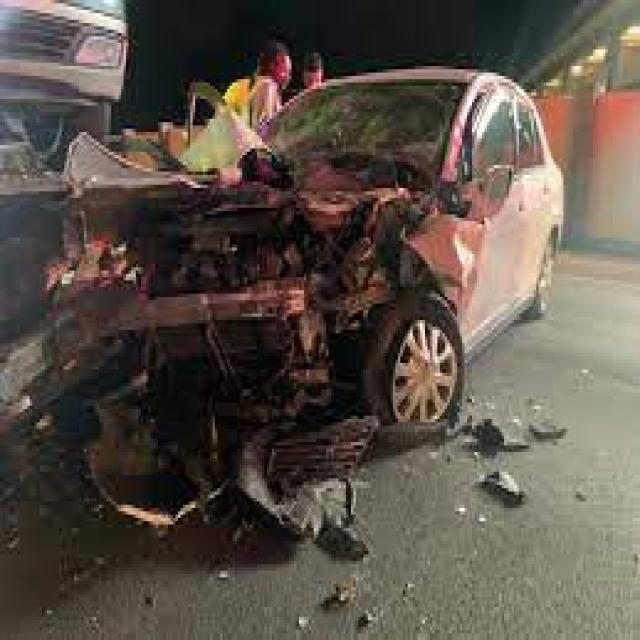Severe Damage: (18, 115, 463, 538)
